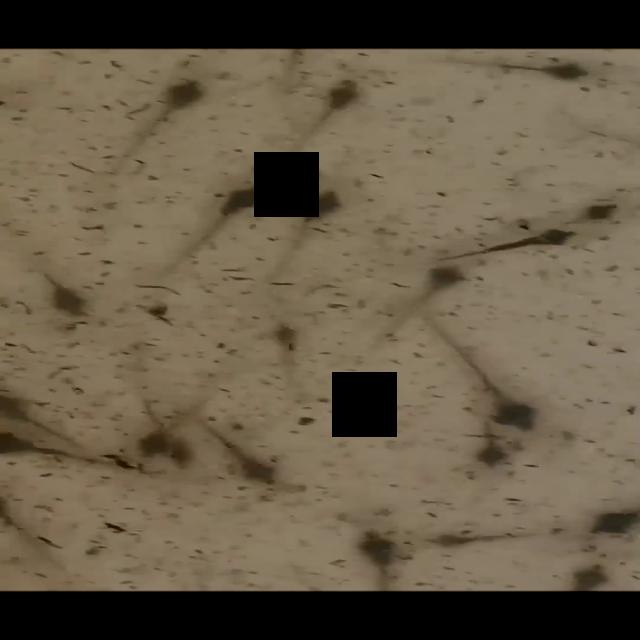shrimp: (407, 312, 585, 455), (155, 165, 314, 276), (101, 57, 241, 177), (184, 407, 322, 509), (371, 248, 501, 350), (278, 62, 407, 162), (262, 168, 373, 284), (18, 247, 123, 335), (419, 54, 625, 94), (322, 511, 417, 586), (422, 223, 594, 261), (455, 397, 528, 485), (415, 516, 568, 556)
